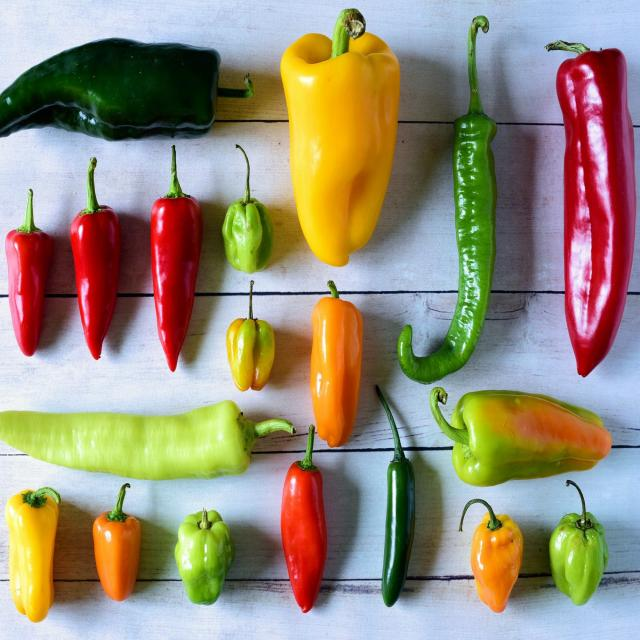chilli: (554, 34, 634, 377), (0, 398, 275, 488), (444, 383, 611, 492), (442, 97, 495, 369), (148, 177, 204, 376), (70, 192, 121, 364), (281, 456, 332, 620), (1, 208, 56, 355), (379, 445, 418, 606)
